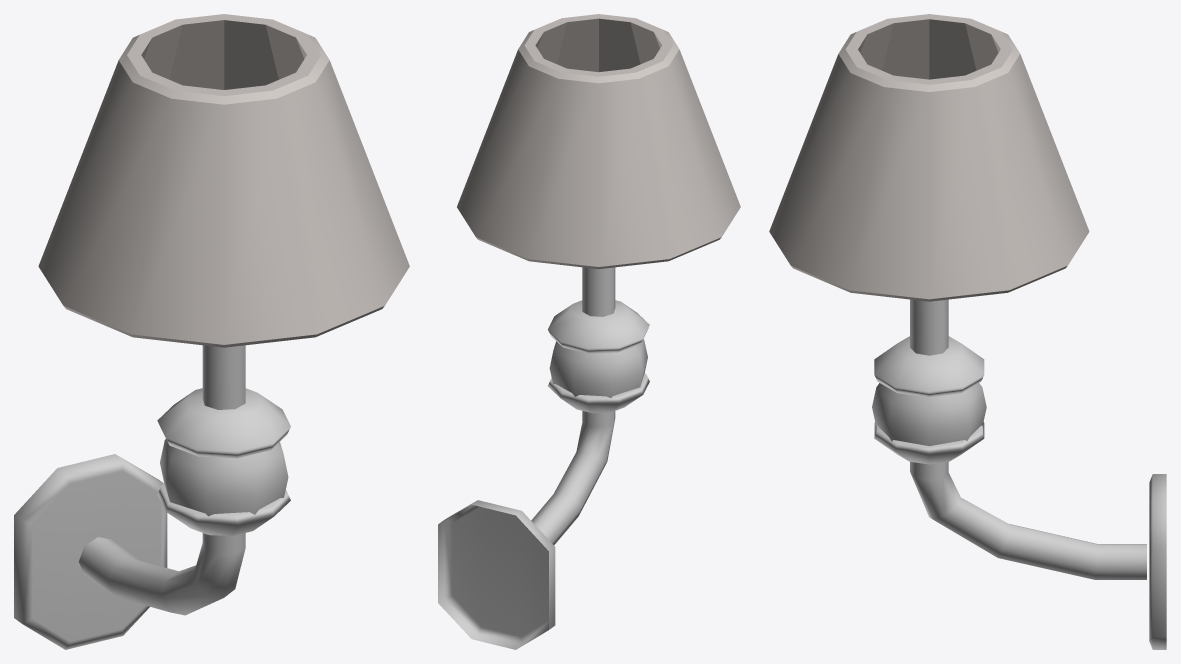
Rendered from Lamp.fbx.
3 views of the same model, side by side, from view 1: azimuth 30°, elevation 25°; view 2: azimuth 150°, elevation 25°; view 3: azimuth 270°, elevation 25° (orthographic). The views are drawn at different scales.
Parts seen in each view (by area): view 1: Lamp; view 2: Lamp; view 3: Lamp.
Part boxes in pixels (left/top/right/bottom): Lamp: left=14, top=14, right=409, bottom=649; Lamp: left=438, top=14, right=740, bottom=649; Lamp: left=769, top=14, right=1166, bottom=649.
Size of the model in its own units: 28.33 by 57.44 by 35.17.
